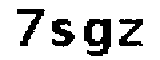7: (12, 4, 47, 51)
g: (79, 15, 116, 60)
s: (47, 17, 77, 52)
z: (116, 14, 150, 50)
